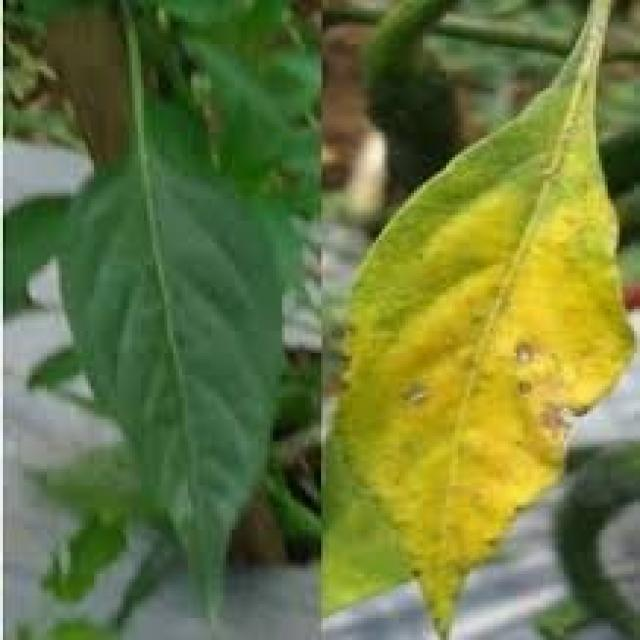Rust: (268, 68, 640, 600)
